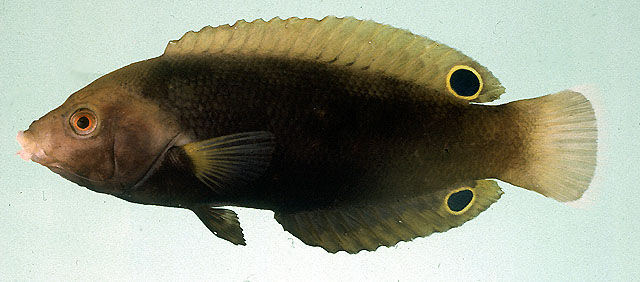fish: (17, 15, 598, 256)
